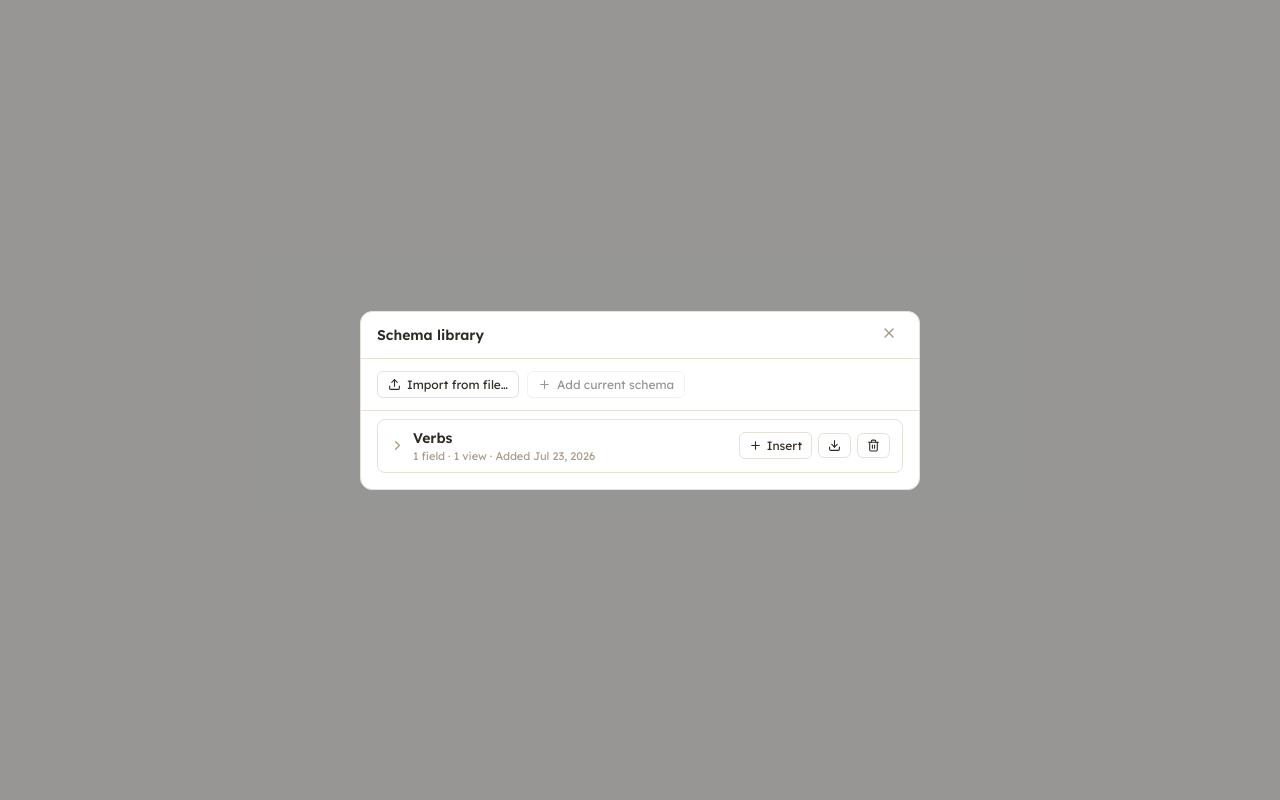
Test case: SchemaLibraryModal › seeds a per-locale label input from the entry's fields, showing a legacy string label under the first locale only
The image size is (1280, 800).
Click the button with aria-label "toggle details" at (559, 446), box [390, 428, 729, 462]
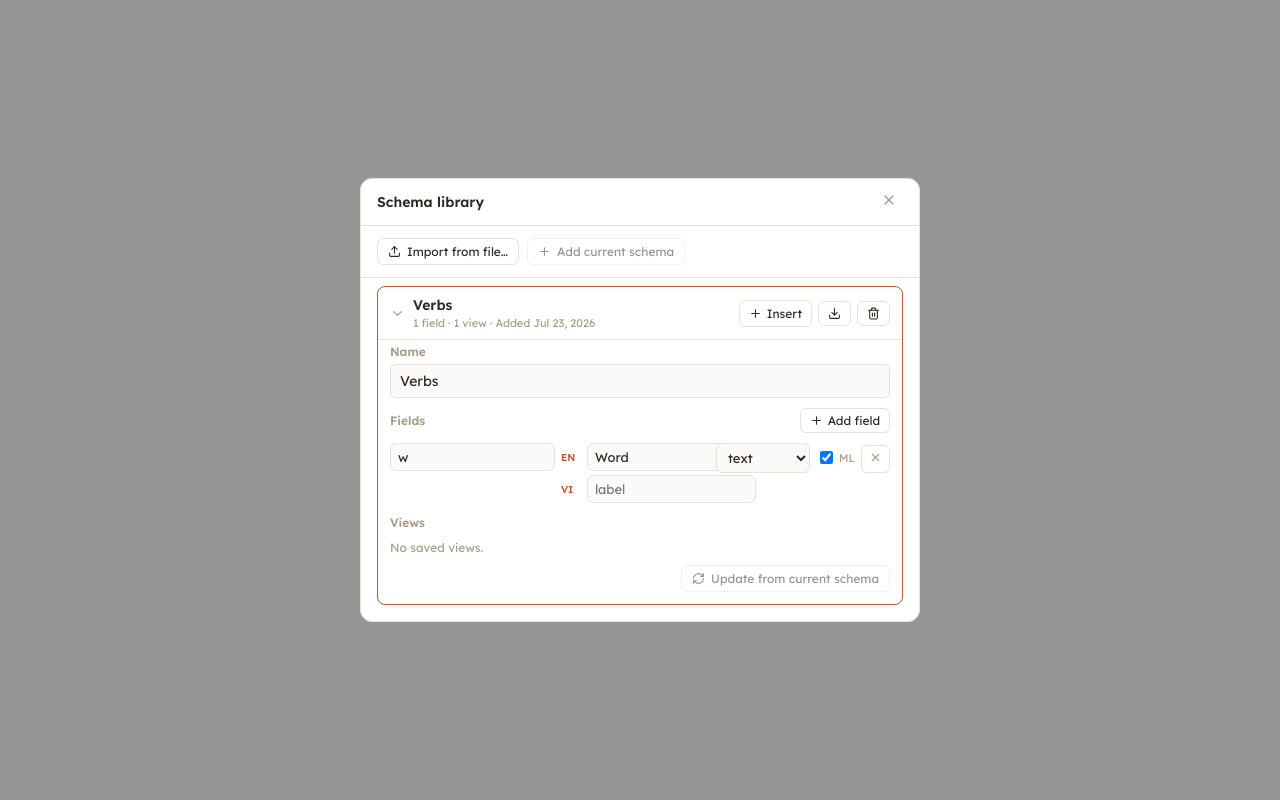
Check: the field named "field label en" holds "Word", box [587, 443, 756, 471]
Check: the field named "field label vi" is empty, box [587, 475, 756, 503]
